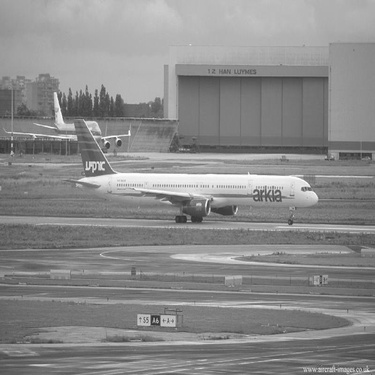airplane: (57, 113, 328, 233), (1, 90, 136, 172)
